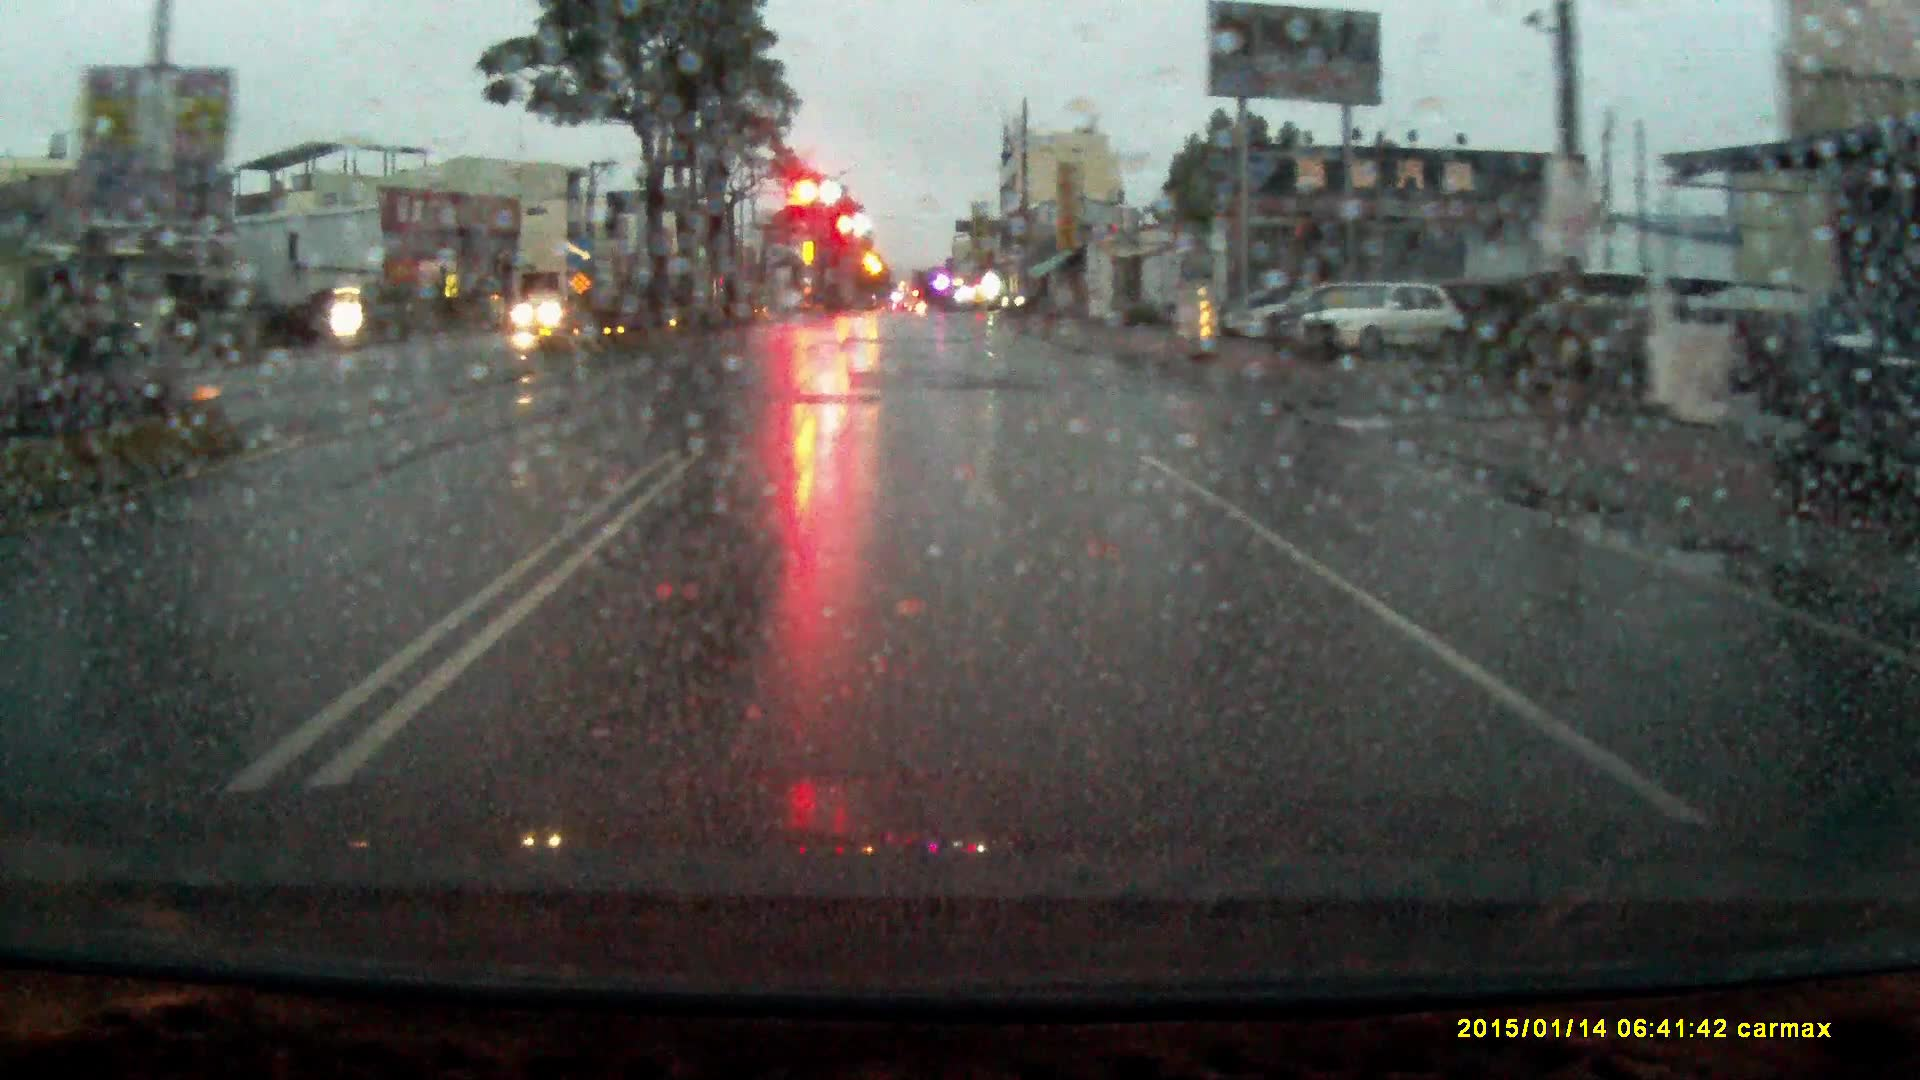vehicle: (1294, 284, 1466, 360), (1262, 280, 1400, 349), (1228, 281, 1349, 338), (516, 295, 588, 338), (1002, 284, 1052, 319)
